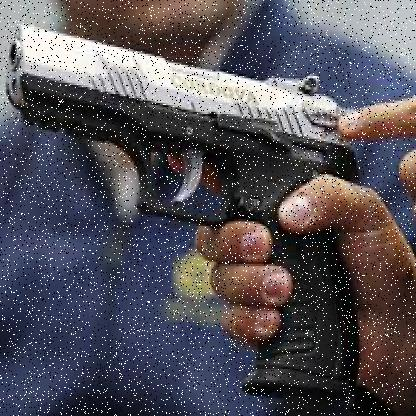pistol: (3, 13, 359, 400)
